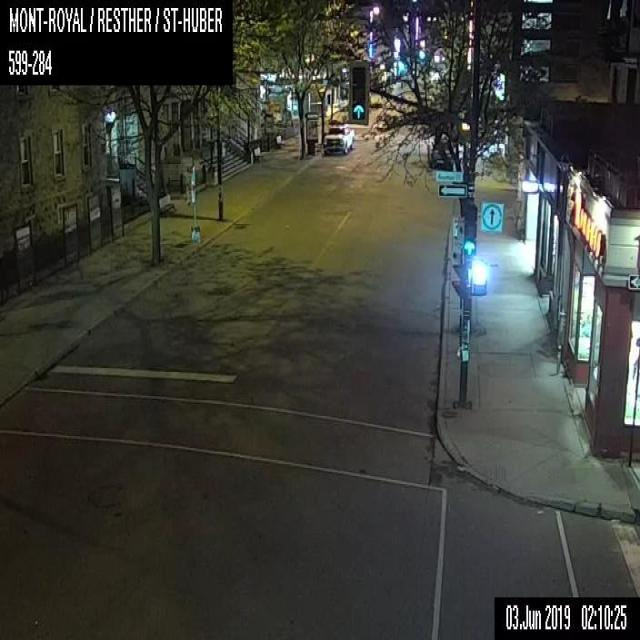vehicle: (322, 123, 354, 154)
